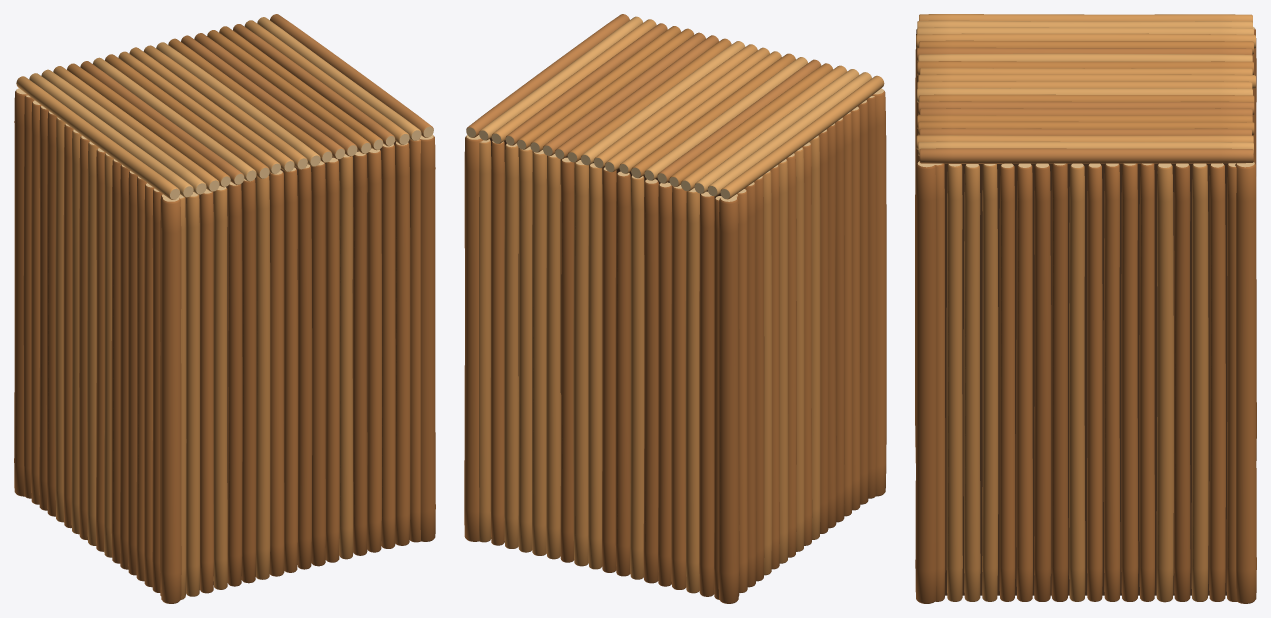
The model's file is SM_LogBlock_NoWalls.fbx.
The picture shows the model from 3 angles, left to right: view 1: azimuth 30°, elevation 25°; view 2: azimuth 150°, elevation 25°; view 3: azimuth 270°, elevation 25°; orthographic projection. The views are drawn at different scales.
Parts seen in each view (by area): view 1: SM_LogBlock_NoWalls; view 2: SM_LogBlock_NoWalls; view 3: SM_LogBlock_NoWalls.
Part boxes in pixels (x1,y1,x2,y2): SM_LogBlock_NoWalls: [14, 14, 435, 603]; SM_LogBlock_NoWalls: [464, 14, 886, 603]; SM_LogBlock_NoWalls: [915, 14, 1256, 603].
Size of the model in its own units: 2.06 by 3 by 2.06.
